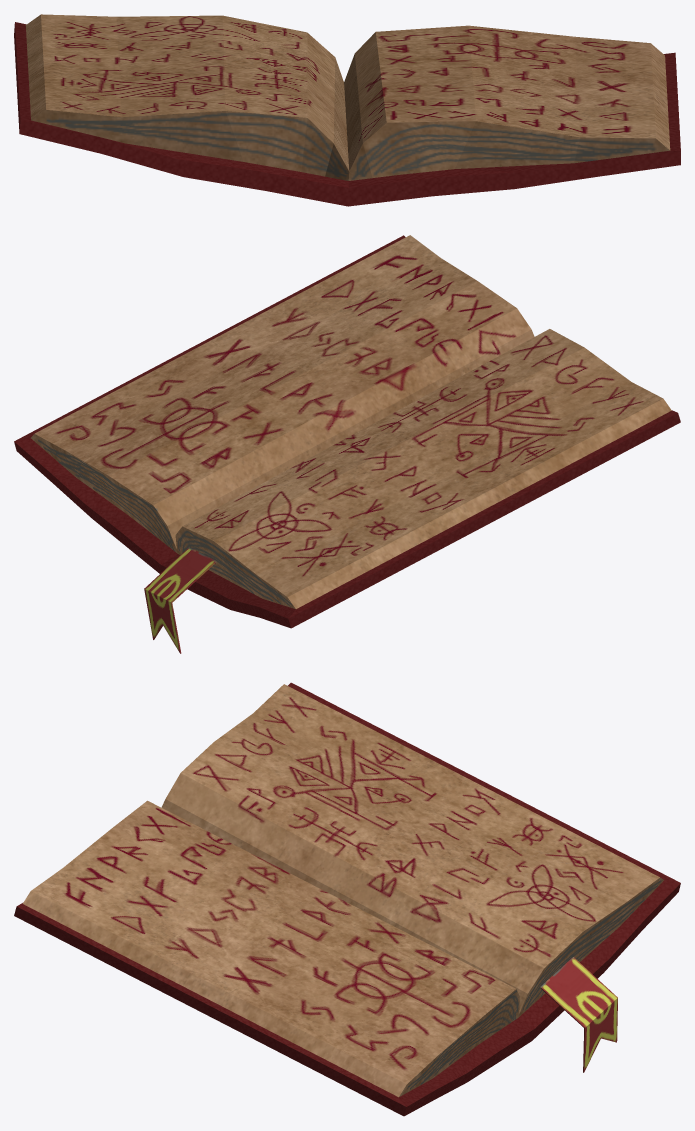
File: ksiazkanr1.fbx
The picture shows the model from 3 angles, top to bottom: view 1: azimuth 30°, elevation 25°; view 2: azimuth 150°, elevation 25°; view 3: azimuth 270°, elevation 25°; orthographic projection. The views are drawn at different scales.
Parts seen in each view (by area): view 1: Untitled.001; view 2: Untitled.001; view 3: Untitled.001.
Boxes of the visible parts, x1=… form: Untitled.001: x1=14, y1=14, x2=680, y2=206; Untitled.001: x1=14, y1=235, x2=680, y2=653; Untitled.001: x1=14, y1=682, x2=680, y2=1116.
Bounding box in the file's own units: 55.8 × 19.15 × 53.63.
2 materials, 2 textured.
